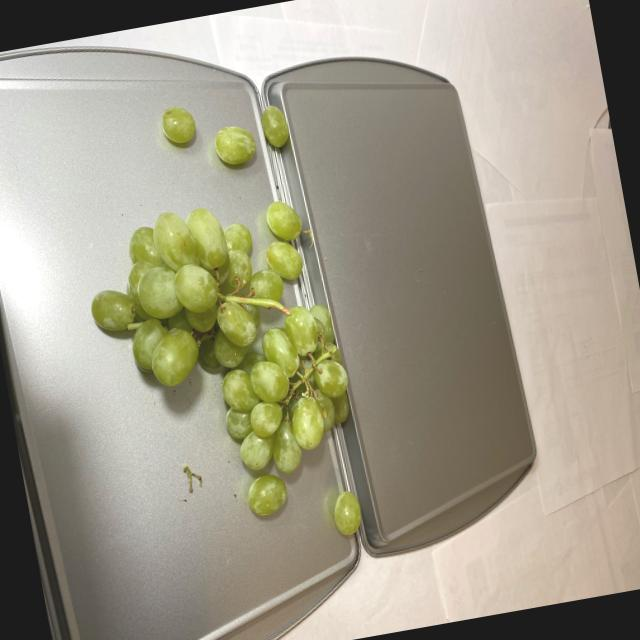grapes: (57, 82, 378, 582)
